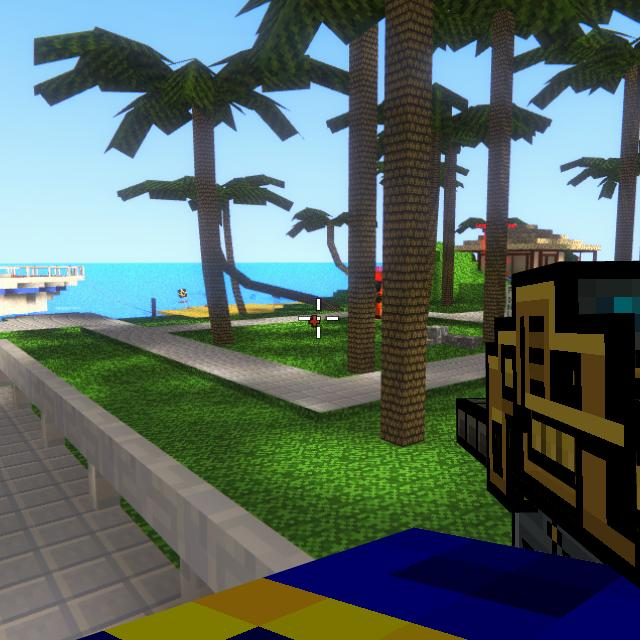Enemy: (377, 280, 383, 317)
